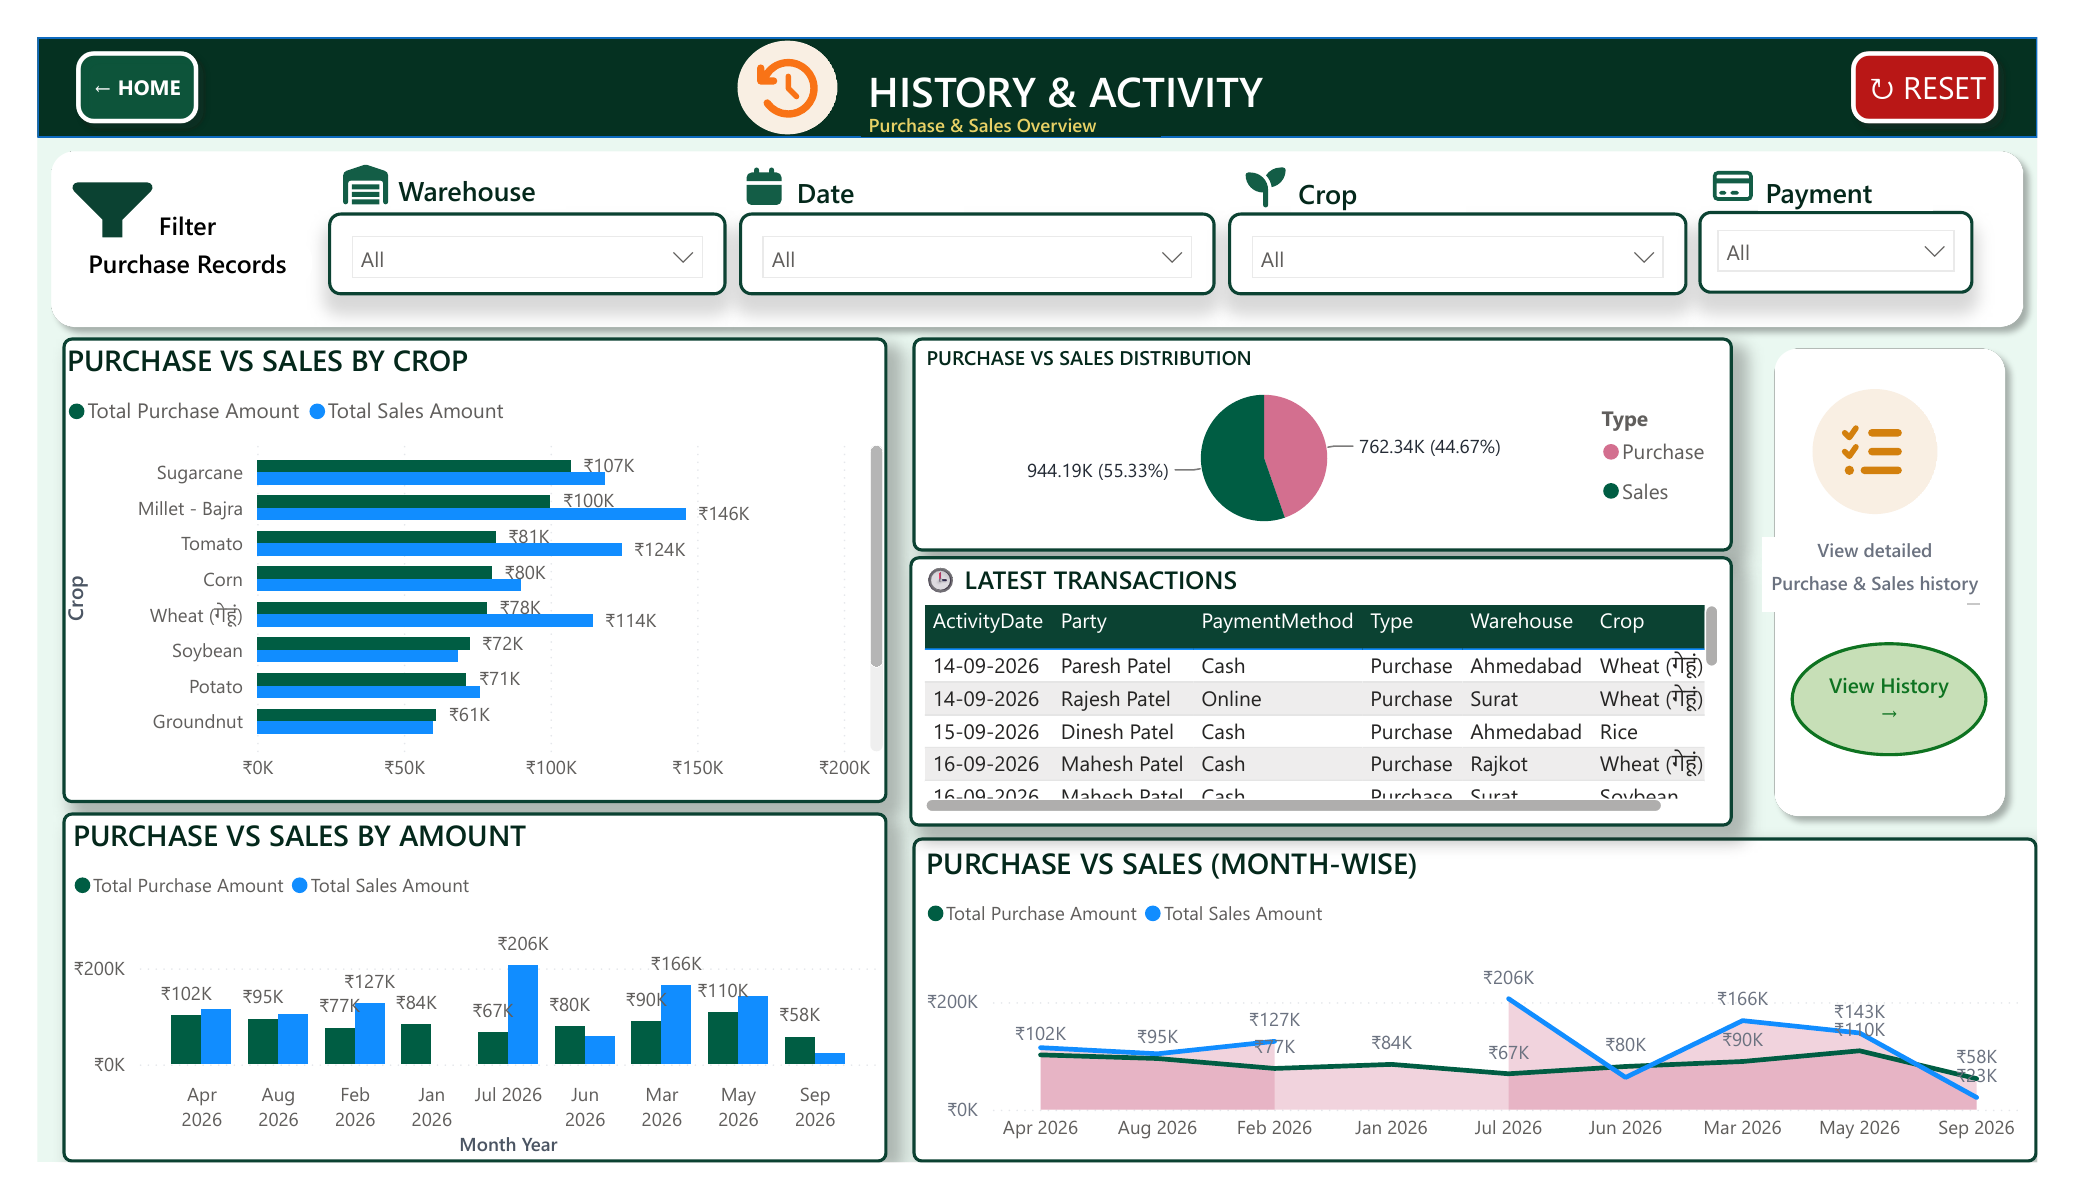

What the dashboard file says about the page in this screenshot:
{"tool":"powerbi","page":{"name":"HISTORY & ACTIVITY","canvas":[1280,720],"ordinal":3},"visuals":[{"type":"shape","box":[0,0,1280,64],"z":0},{"type":"actionButton","box":[16,0,96,64],"z":1000},{"type":"textbox","title":"HISTORY & ACTIVITY","box":[527.4,16,336,32],"z":2000},{"type":"textbox","title":"Purchase & Sales Overview","box":[527.4,48,192,16],"z":3000},{"type":"actionButton","box":[1152,0,112,64],"z":4000},{"type":"shape","box":[0,64,1280,130],"z":5000},{"type":"shape","box":[64,96,64,48],"z":6000},{"type":"image","box":[16,80,64,64],"z":7000},{"type":"slicer","title":"Warehouse","fields":{"Values":["Purchase.Warehouse"]},"box":[186,112.2,255,53],"z":8000},{"type":"image","box":[194.2,78.4,32,32],"z":9000},{"type":"textbox","title":"Warehouse","box":[226.2,86.4,112,24],"z":10000},{"type":"slicer","title":"Warehouse","fields":{"Values":["DateTable.Month Year"]},"box":[448.8,112,305,53],"z":11000},{"type":"image","box":[448.8,80,32,32],"z":12000},{"type":"textbox","title":"Date","box":[480.8,80,112,32],"z":13000},{"type":"slicer","title":"Warehouse","fields":{"Values":["CropTable.Crop"]},"box":[761.9,111.6,294,53],"z":14000},{"type":"image","box":[769.9,79.6,32,32],"z":15000},{"type":"textbox","title":"Crop","box":[801.9,87.6,112,24],"z":16000},{"type":"slicer","title":"Warehouse","fields":{"Values":["PaymentTable.PaymentMethod"]},"box":[1062.9,110.9,176,53],"z":17000},{"type":"image","box":[1068.8,79,32,32],"z":18000},{"type":"textbox","title":"Payment","box":[1100.8,87,112,24],"z":19000},{"type":"shape","box":[16,128,160,32],"z":20000},{"type":"clusteredBarChart","title":"PURCHASE VS SALES BY CROP","fields":{"Category":["CropTable.Crop"],"Y":["Purchase.Total Purchase Amount","Sales.Total Sales Amount"]},"box":[16,192,528,298],"z":21000},{"type":"lineChart","title":"PURCHASE VS SALES (MONTH-WISE)","fields":{"Y":["Purchase.Total Purchase Amount","Sales.Total Sales Amount"],"Category":["DateTable.Month Year"]},"box":[560,512,720,208],"z":22000},{"type":"clusteredColumnChart","title":"PURCHASE VS SALES BY AMOUNT","fields":{"Category":["DateTable.Month Year"],"Y":["Purchase.Total Purchase Amount","Sales.Total Sales Amount"]},"box":[16,496,528,224],"z":23000},{"type":"pieChart","title":"PURCHASE VS SALES DISTRIBUTION","fields":{"Category":["TransactionType.Type"],"Y":["TransactionType.Transaction Distribution Amount"]},"box":[560,192,525,137],"z":24000},{"type":"tableEx","title":"🕒 LATEST TRANSACTIONS","fields":{"Values":["HistoryActivity.ActivityDate","HistoryActivity.Party","HistoryActivity.PaymentMethod","HistoryActivity.Type","HistoryActivity.Warehouse","HistoryActivity.Crop"]},"box":[558,332,527,173],"z":25000},{"type":"shape","box":[1103,190,165,317],"z":26000},{"type":"shape","box":[448,0,64,64],"z":27000},{"type":"image","box":[457,0,47,64],"z":28000},{"type":"shape","box":[1136,224.8,80,80],"z":29000},{"type":"image","box":[1132.3,240.6,84,48],"z":30000},{"type":"actionButton","box":[1120,384,128,80],"z":31000},{"type":"textbox","title":"View detailed","box":[1104,320,144,48],"z":32000}]}

Visuals, with their boxes in screenshot pixels (x1, y1, x2, y2):
shape: [left=43, top=32, right=2017, bottom=131]
actionButton: [left=68, top=32, right=216, bottom=131]
"HISTORY & ACTIVITY" textbox: [left=856, top=57, right=1375, bottom=106]
"Purchase & Sales Overview" textbox: [left=856, top=106, right=1153, bottom=131]
actionButton: [left=1820, top=32, right=1992, bottom=131]
shape: [left=43, top=131, right=2017, bottom=332]
shape: [left=142, top=180, right=241, bottom=254]
image: [left=68, top=156, right=167, bottom=254]
"Warehouse" slicer: [left=330, top=205, right=723, bottom=287]
image: [left=343, top=153, right=392, bottom=203]
"Warehouse" textbox: [left=392, top=166, right=565, bottom=203]
"Warehouse" slicer: [left=735, top=205, right=1206, bottom=287]
image: [left=735, top=156, right=785, bottom=205]
"Date" textbox: [left=785, top=156, right=957, bottom=205]
"Warehouse" slicer: [left=1218, top=205, right=1671, bottom=286]
image: [left=1230, top=155, right=1280, bottom=205]
"Crop" textbox: [left=1280, top=168, right=1452, bottom=205]
"Warehouse" slicer: [left=1682, top=203, right=1954, bottom=285]
image: [left=1691, top=154, right=1741, bottom=204]
"Payment" textbox: [left=1741, top=167, right=1913, bottom=204]
shape: [left=68, top=230, right=315, bottom=279]
"PURCHASE VS SALES BY CROP" clusteredBarChart: [left=68, top=328, right=882, bottom=788]
"PURCHASE VS SALES (MONTH-WISE)" lineChart: [left=907, top=822, right=2017, bottom=1143]
"PURCHASE VS SALES BY AMOUNT" clusteredColumnChart: [left=68, top=797, right=882, bottom=1143]
"PURCHASE VS SALES DISTRIBUTION" pieChart: [left=907, top=328, right=1716, bottom=540]
"🕒 LATEST TRANSACTIONS" tableEx: [left=904, top=544, right=1716, bottom=811]
shape: [left=1744, top=325, right=1998, bottom=814]
shape: [left=734, top=32, right=833, bottom=131]
image: [left=748, top=32, right=820, bottom=131]
shape: [left=1795, top=379, right=1918, bottom=502]
image: [left=1789, top=403, right=1919, bottom=477]
actionButton: [left=1770, top=625, right=1968, bottom=748]
"View detailed" textbox: [left=1746, top=526, right=1968, bottom=600]
